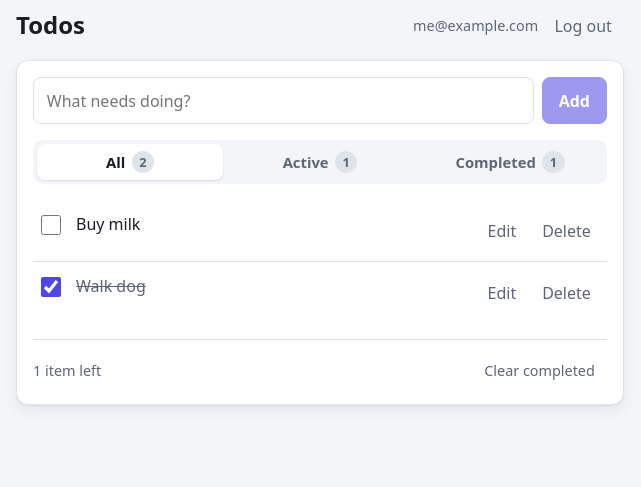
Scenario: TodosPage › keeps what you type for the next todo while the previous one is still saving
The image size is (641, 487).
Expected: the text "Buy milk" is shown, [76,213,140,235]
Type "First" into the field named "New todo". click: [283, 101]
box: [33,77,534,124]
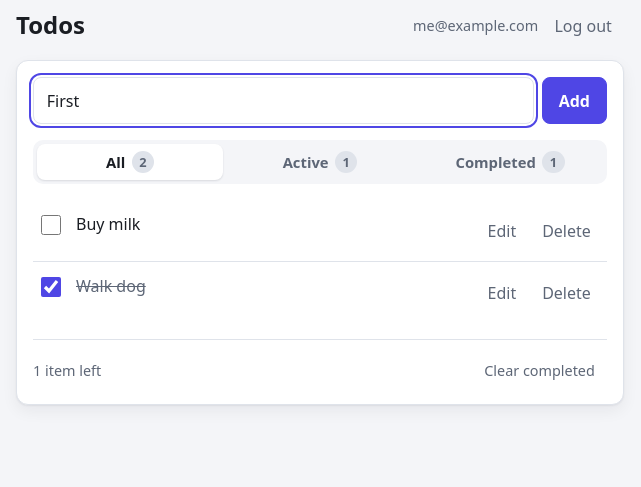
Click the button "Add". click: [574, 101]
box: [542,77,607,124]
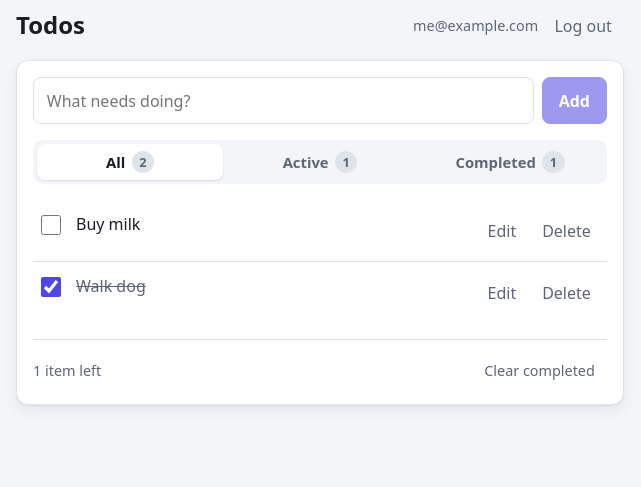
Expected: the field named "New todo" is empty
Type "Second" into the field named "New todo". click: [283, 101]
box: [33,77,534,124]
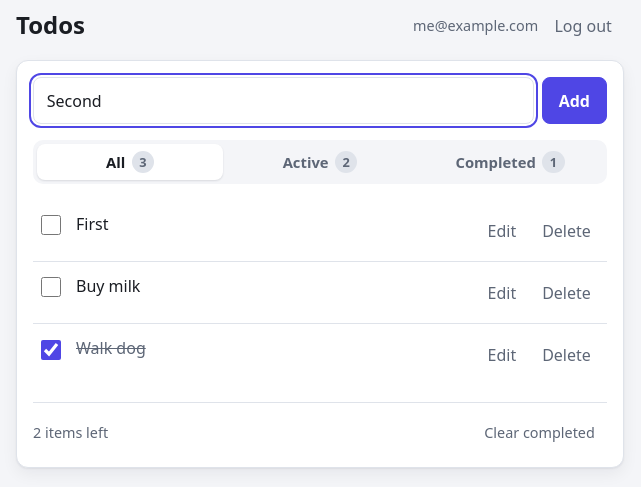
Expected: the list item "First Edit Delete" is shown, [33,200,607,261]
